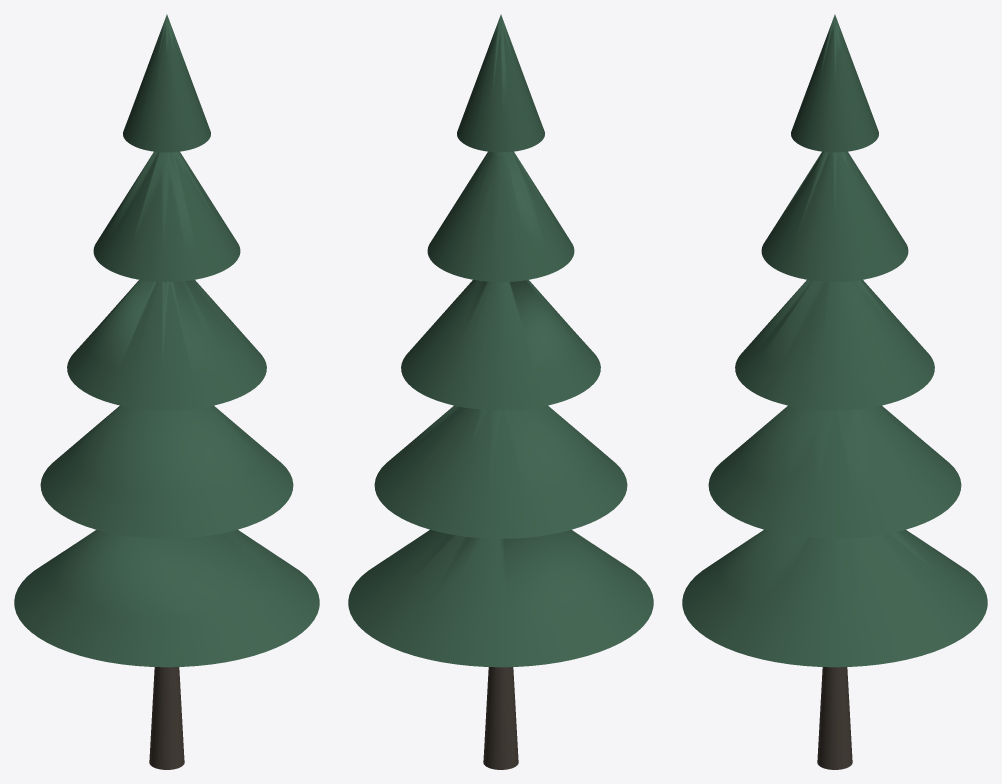
The model's file is e07-eastern-white-pine.glb.
3 renders of one model, left to right at view 1: azimuth 30°, elevation 25°; view 2: azimuth 150°, elevation 25°; view 3: azimuth 270°, elevation 25°, orthographic.
Parts seen in each view (by area): view 1: part1, part2, part3, part4, part5, part0; view 2: part1, part2, part3, part4, part5, part0; view 3: part1, part2, part3, part4, part5, part0.
Boxes of the visible parts, bbox=[...] form: part1: bbox=[14, 529, 319, 667]; part2: bbox=[40, 405, 293, 538]; part3: bbox=[67, 280, 266, 410]; part4: bbox=[93, 151, 240, 281]; part5: bbox=[123, 14, 210, 152]; part0: bbox=[149, 667, 184, 769]; part1: bbox=[348, 529, 653, 667]; part2: bbox=[374, 405, 627, 538]; part3: bbox=[401, 280, 600, 410]; part4: bbox=[427, 151, 574, 281]; part5: bbox=[457, 14, 544, 152]; part0: bbox=[483, 667, 518, 769]; part1: bbox=[682, 529, 987, 667]; part2: bbox=[708, 405, 961, 538]; part3: bbox=[735, 280, 934, 410]; part4: bbox=[761, 151, 908, 281]; part5: bbox=[791, 14, 878, 152]; part0: bbox=[817, 667, 852, 769].
Bounding box in the file's own units: 10393 × 28100 × 10397.
